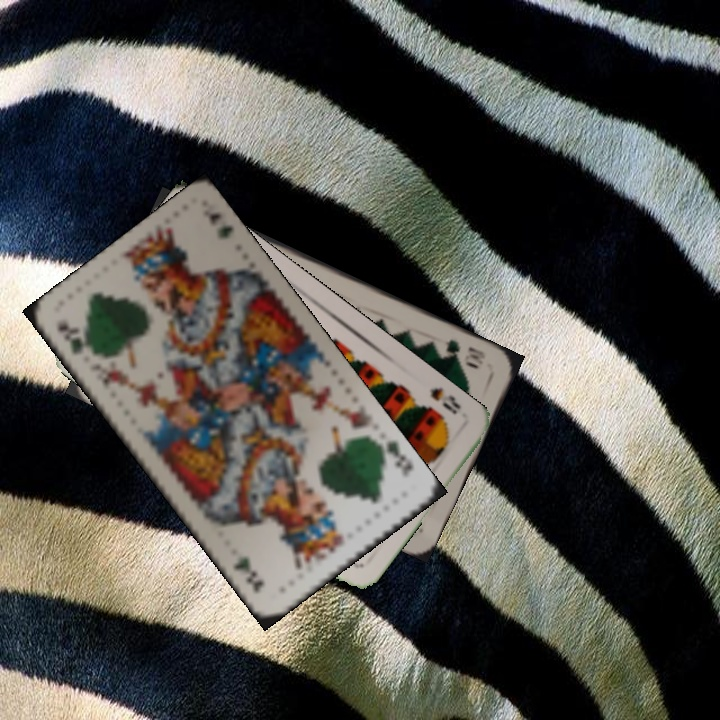G10: (440, 335, 488, 372)
GK: (52, 318, 100, 360), (372, 436, 416, 479)
S8: (426, 383, 464, 417)
